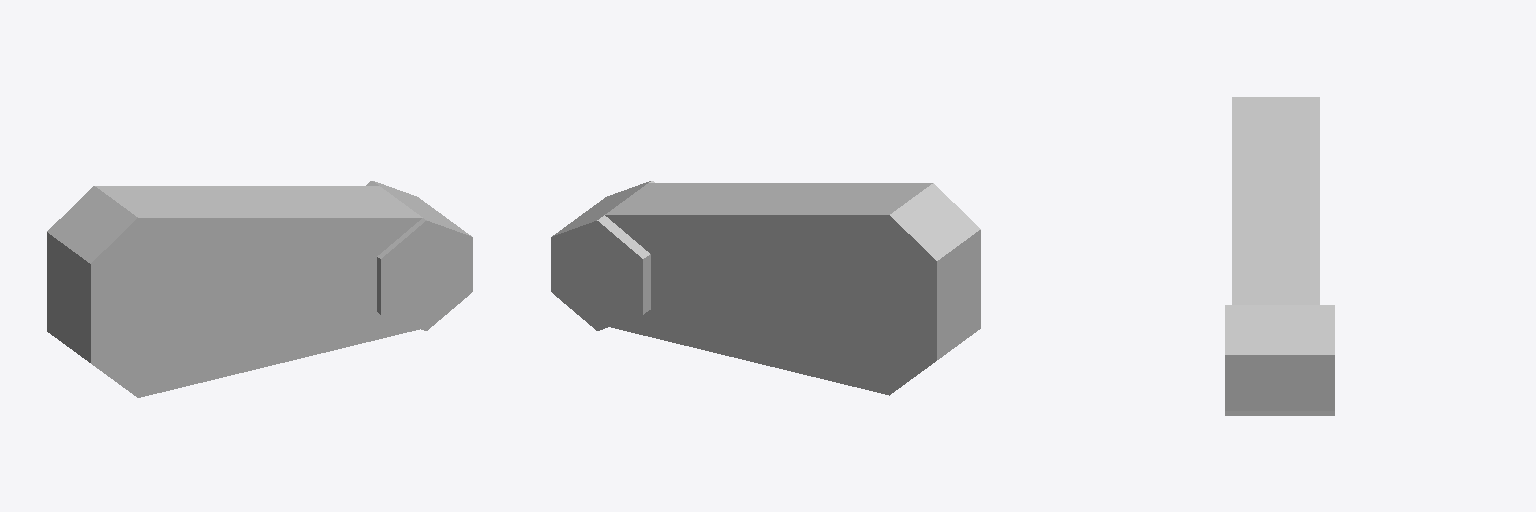
Rendered from pivot.obj.
3 views of the same model, side by side, from view 1: azimuth 30°, elevation 25°; view 2: azimuth 150°, elevation 25°; view 3: azimuth 270°, elevation 25° (orthographic).
Visible parts, largest first — view 1: Mesh1 Group1 Model; view 2: Mesh1 Group1 Model; view 3: Mesh1 Group1 Model.
Part boxes in pixels (bbox=[...]): Mesh1 Group1 Model: bbox=[47, 181, 472, 397]; Mesh1 Group1 Model: bbox=[551, 181, 980, 395]; Mesh1 Group1 Model: bbox=[1225, 97, 1334, 415].
Size of the model in its own units: 23.52 by 10.73 by 5.91.